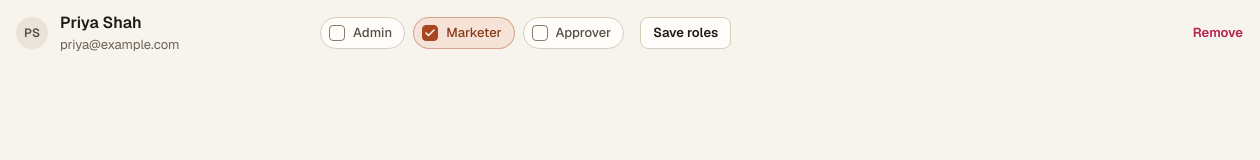
Test: lets an admin change a member's roles
Click the checkbox labelled "Approver" at (540, 33), box top-left (532, 25), bottom-right (548, 41)
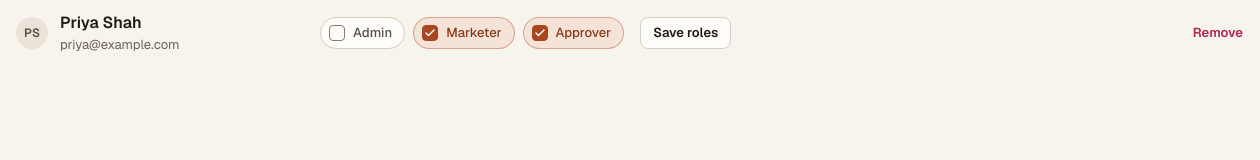
Click the button "Save roles" at (686, 33), box top-left (640, 17), bottom-right (731, 49)
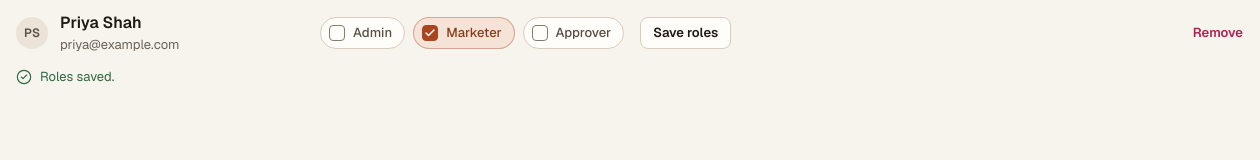
Result: the message reads "Roles saved." at top-left (40, 68), bottom-right (114, 85)
